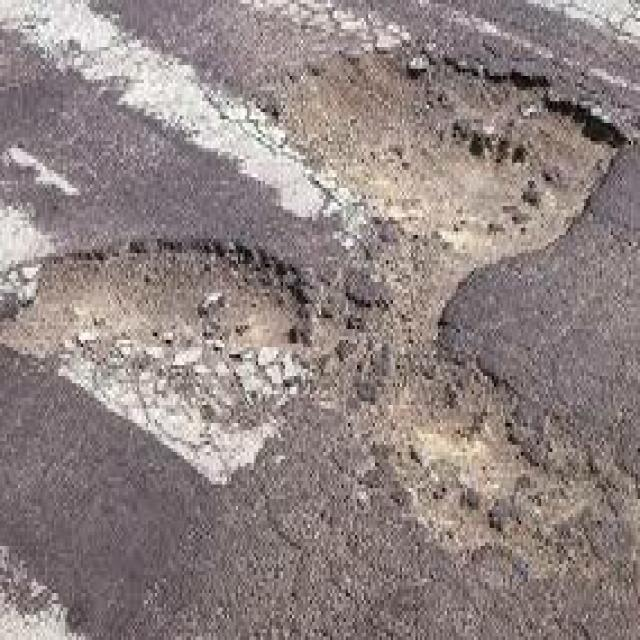Pothole: (234, 18, 631, 311), (2, 213, 335, 528), (343, 336, 640, 589)
